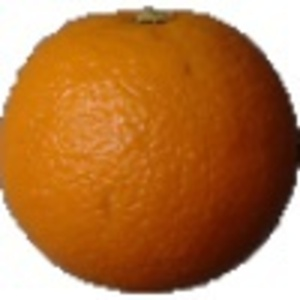laranja: (1, 4, 298, 296)
